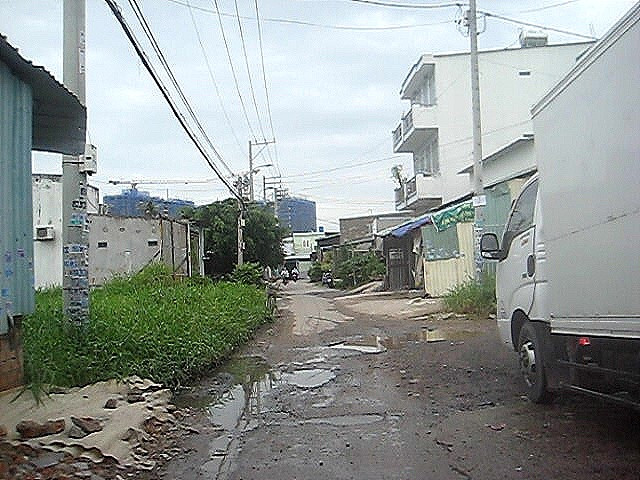hole: (194, 391, 271, 479), (326, 324, 481, 354), (206, 355, 338, 389), (300, 407, 390, 429)
